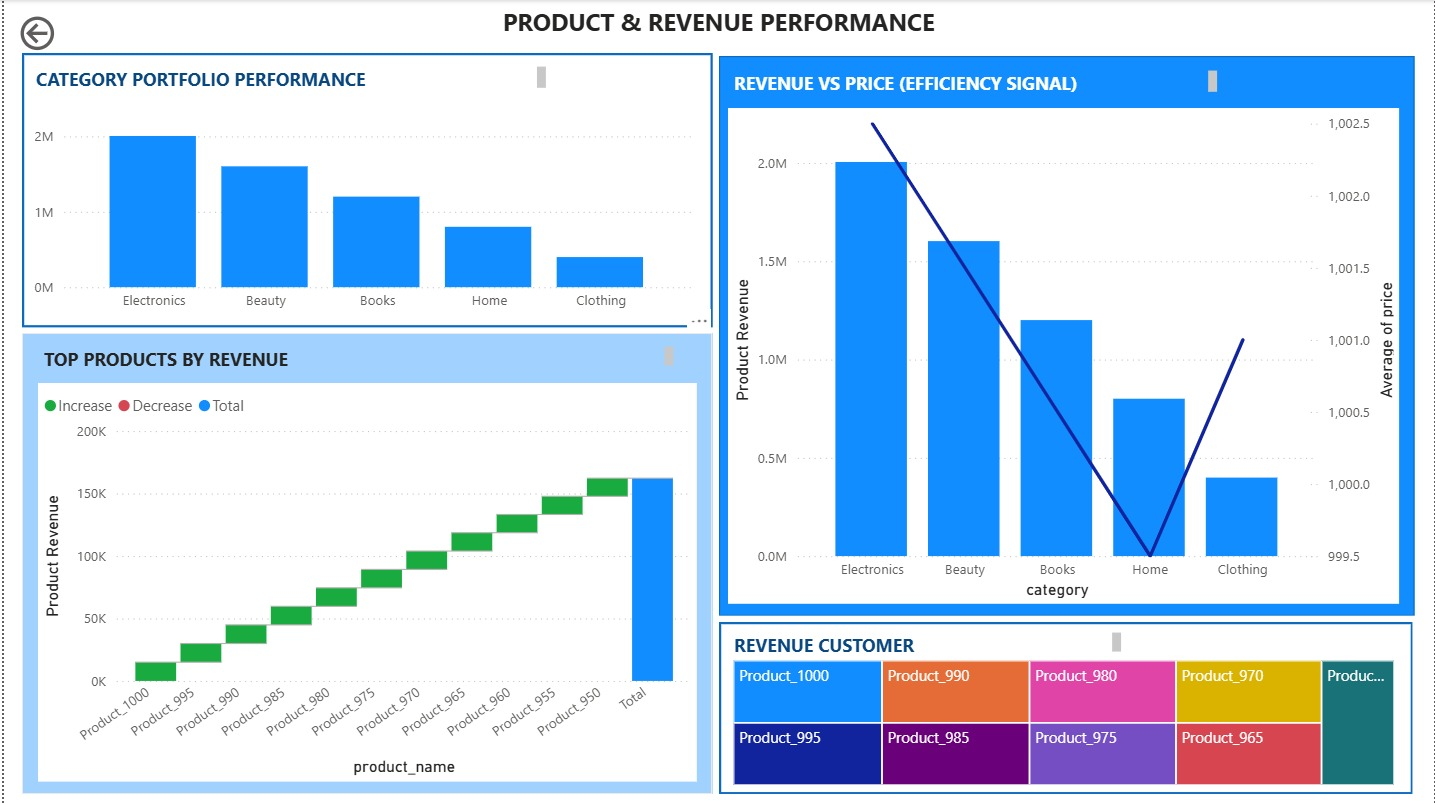

What the dashboard file says about the page in this screenshot:
{"tool":"powerbi","page":{"name":"PRODUCT & REVENUE PERFORMANCE","canvas":[1280,720],"ordinal":2},"visuals":[{"type":"shape","box":[15.7,47.1,618.6,245.7],"z":0},{"type":"shape","box":[15.7,298.6,618.6,412.9],"z":1000},{"type":"shape","box":[640,50,622.9,501.4],"z":2000},{"type":"shape","box":[640,557.1,621.4,154.3],"z":3000},{"type":"textbox","box":[0,0,1280,40.9],"z":4000},{"type":"treemap","fields":{"Values":["order_items.Product Revenue Contribution %"],"Group":["products.product_name"]},"box":[648.6,586.1,601.4,121.4],"z":6000},{"type":"clusteredColumnChart","fields":{"Category":["products.category"],"Y":["order_items.Product Revenue"]},"box":[21.4,74.3,598.6,212.9],"z":7000},{"type":"actionButton","box":[10,10,100,40],"z":11000},{"type":"textbox","box":[22.9,54.3,467.1,30],"z":14000},{"type":"textbox","box":[648.6,561.4,357.1,28.6],"z":15000},{"type":"textbox","box":[30,305.7,574.3,28.6],"z":16000},{"type":"lineStackedColumnComboChart","fields":{"Category":["products.category"],"Y":["order_items.Product Revenue"],"Y2":["Avg(products.price)"]},"box":[648.6,97.1,601.4,444.3],"z":17000},{"type":"textbox","box":[648.6,58.6,442.9,30],"z":18000},{"type":"waterfallChart","fields":{"Category":["products.product_name"],"Y":["order_items.Product Revenue"]},"box":[30,342.9,590,357.1],"z":19000}]}

Visuals, with their boxes in screenshot pixels (x1, y1, x2, y2), scaled from the page's 1280x720 canvas onto the 1435x803 screenshot:
shape: [x1=18, y1=53, x2=711, y2=327]
shape: [x1=18, y1=333, x2=711, y2=794]
shape: [x1=718, y1=56, x2=1416, y2=615]
shape: [x1=718, y1=621, x2=1414, y2=793]
textbox: [x1=0, y1=0, x2=1434, y2=46]
treemap - order_items.Product Revenue Contribution % x products.product_name: [x1=727, y1=654, x2=1401, y2=789]
clusteredColumnChart - products.category x order_items.Product Revenue: [x1=24, y1=83, x2=695, y2=320]
actionButton: [x1=11, y1=11, x2=123, y2=56]
textbox: [x1=26, y1=61, x2=549, y2=94]
textbox: [x1=727, y1=626, x2=1127, y2=658]
textbox: [x1=34, y1=341, x2=677, y2=373]
lineStackedColumnComboChart - products.category x order_items.Product Revenue: [x1=727, y1=108, x2=1401, y2=604]
textbox: [x1=727, y1=65, x2=1224, y2=99]
waterfallChart - products.product_name x order_items.Product Revenue: [x1=34, y1=382, x2=695, y2=781]
